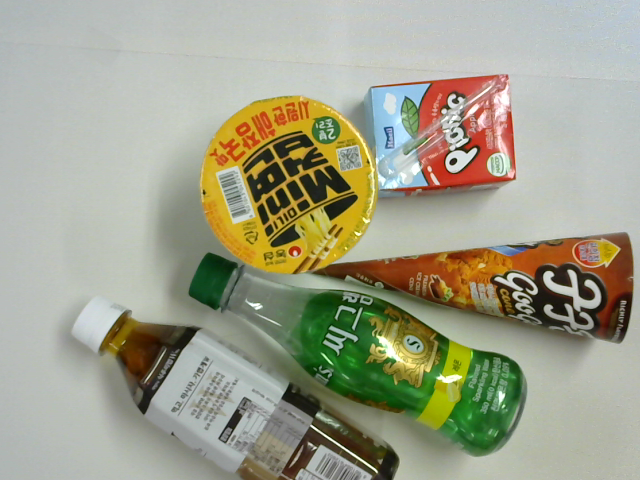GooGoo_Cone_CVS: (294, 229, 634, 336)
Hejangmini: (199, 96, 371, 274)
Picnic_Apple: (367, 72, 515, 198)
Post-meal_recipe_W_tea_500ml: (70, 296, 402, 480)
Seagram_Lemon_Carbonated_Water: (187, 257, 528, 456)
